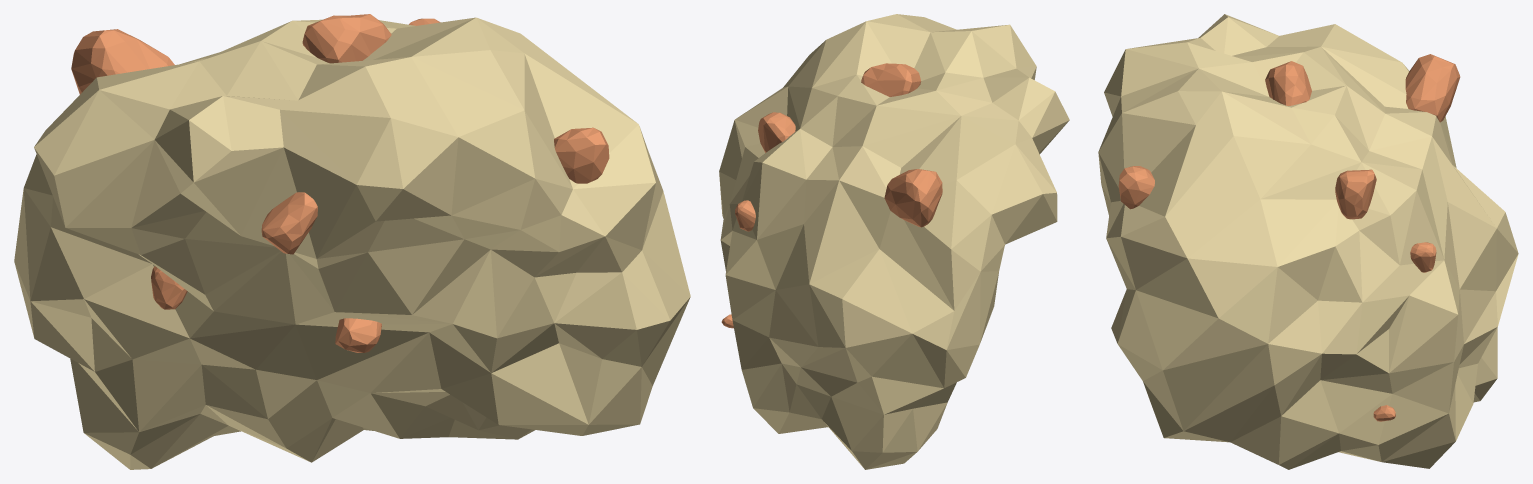
The model's file is StoneOre (1).fbx.
3 views of the same model, side by side, from view 1: azimuth 30°, elevation 25°; view 2: azimuth 150°, elevation 25°; view 3: azimuth 270°, elevation 25° (orthographic). The views are drawn at different scales.
Parts seen in each view (by area): view 1: Asteroid288; view 2: Asteroid288; view 3: Asteroid288.
Boxes of the visible parts, bbox=[...] form: Asteroid288: bbox=[14, 14, 690, 469]; Asteroid288: bbox=[719, 14, 1069, 469]; Asteroid288: bbox=[1098, 14, 1518, 469].
Bounding box in the file's own units: 476 × 431 × 431.
